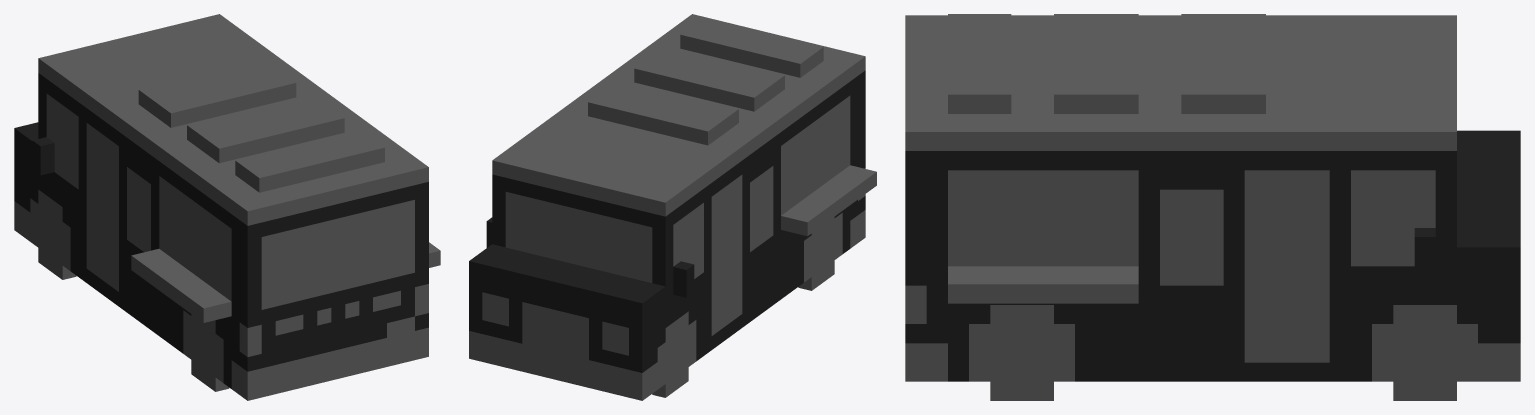
Rendered from veh_lunch4.obj.
3 renders of one model, left to right at view 1: azimuth 30°, elevation 25°; view 2: azimuth 150°, elevation 25°; view 3: azimuth 270°, elevation 25°, orthographic. The views are drawn at different scales.
Size of the model in its own units: 17 by 15 by 29.
